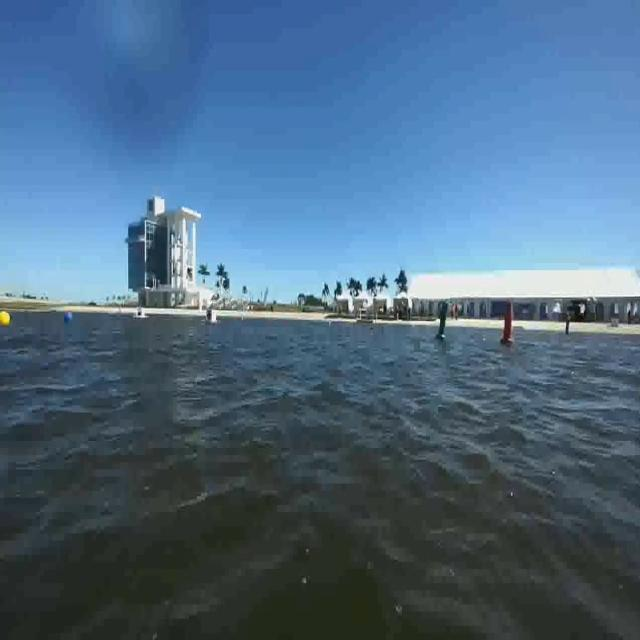green-column-buoy: (434, 297, 452, 358)
red-column-buoy: (497, 297, 519, 351)
yellow-buoy: (0, 309, 11, 328)
